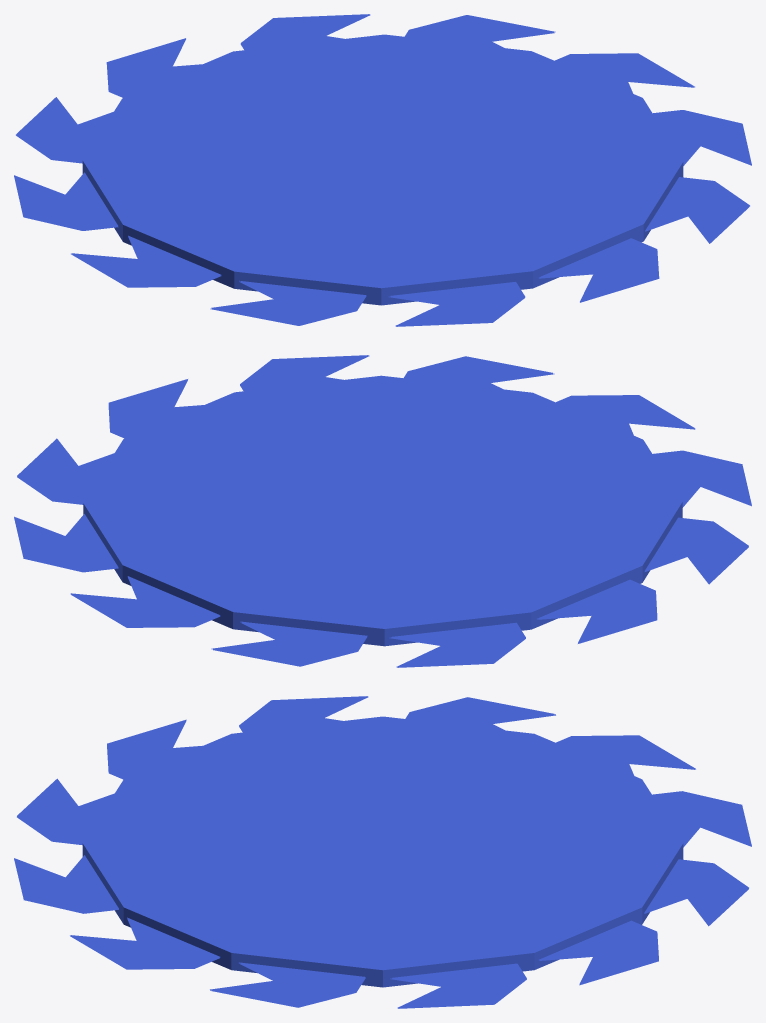
The model's file is saw.fbx.
3 renders of one model, top to bottom at view 1: azimuth 30°, elevation 25°; view 2: azimuth 150°, elevation 25°; view 3: azimuth 270°, elevation 25°, orthographic.
Visible parts, largest first — view 1: BezierCircle; view 2: BezierCircle; view 3: BezierCircle.
Boxes of the visible parts, left/top/right/bottom form: BezierCircle: left=14, top=14, right=751, bottom=326; BezierCircle: left=14, top=355, right=751, bottom=667; BezierCircle: left=14, top=696, right=751, bottom=1008.
Bounding box in the file's own units: 246 × 6.35 × 246.
